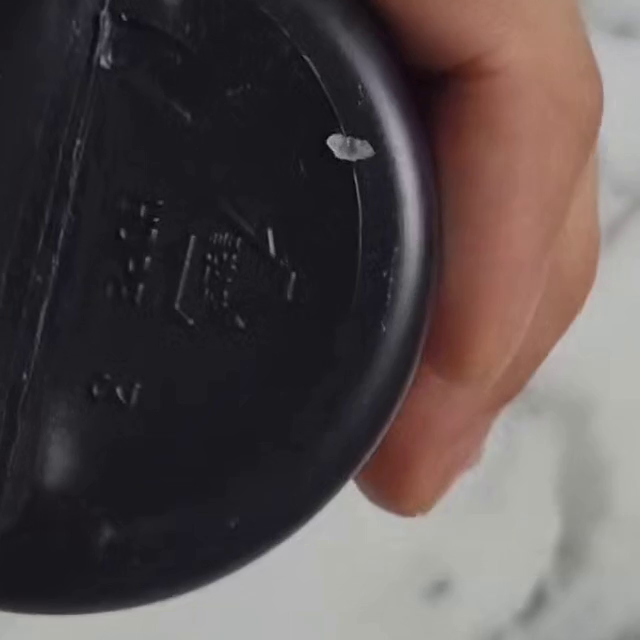Plastic: (162, 203, 303, 340)
